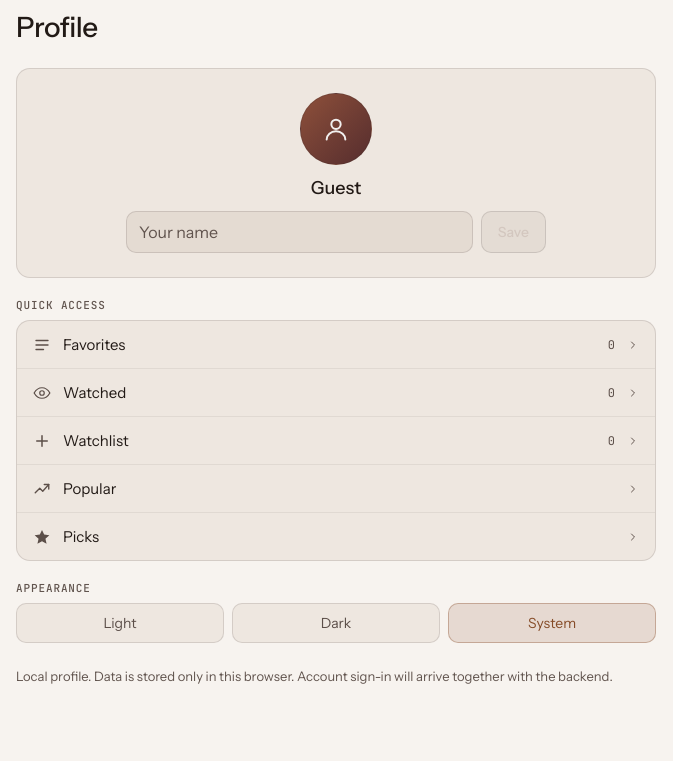
it: Profile › недоступное хранилище: Save показывает сообщение об ошибке, черновик сохраняется, правка убирает сообщение
Type "Oleg" into the field named "Display name" at (299, 232), box [126,211,473,253]
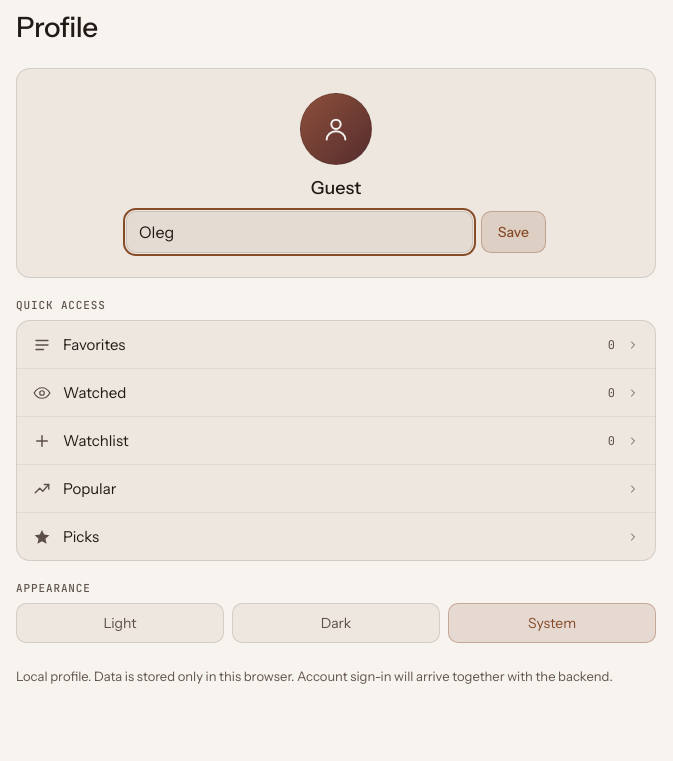
Click the button "Save" at (513, 232), box [481,211,546,253]
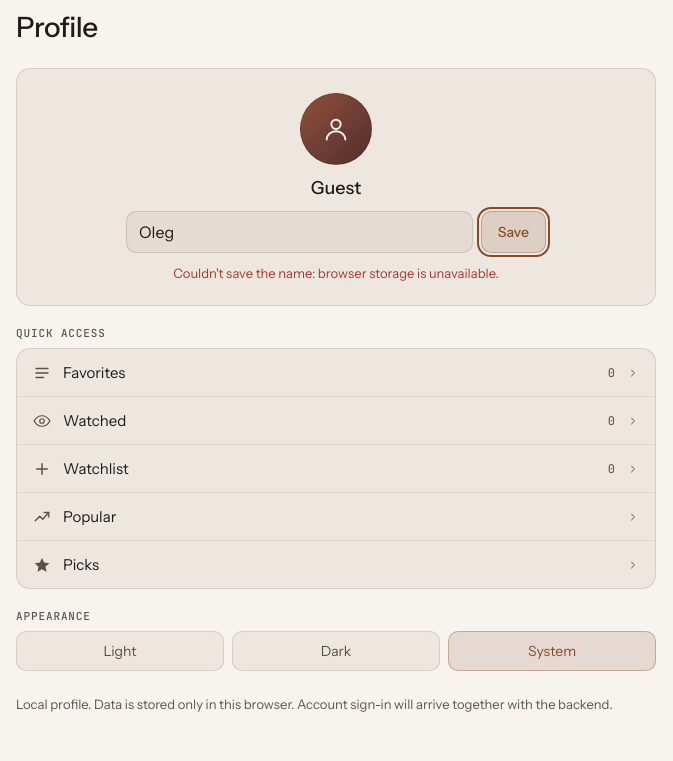
Check: the text "Guest" is shown, box [311,177,361,199]
Check: the button "Save" is enabled, box [481,211,546,253]
Type "2" into the field named "Display name" at (299, 232), box [126,211,473,253]
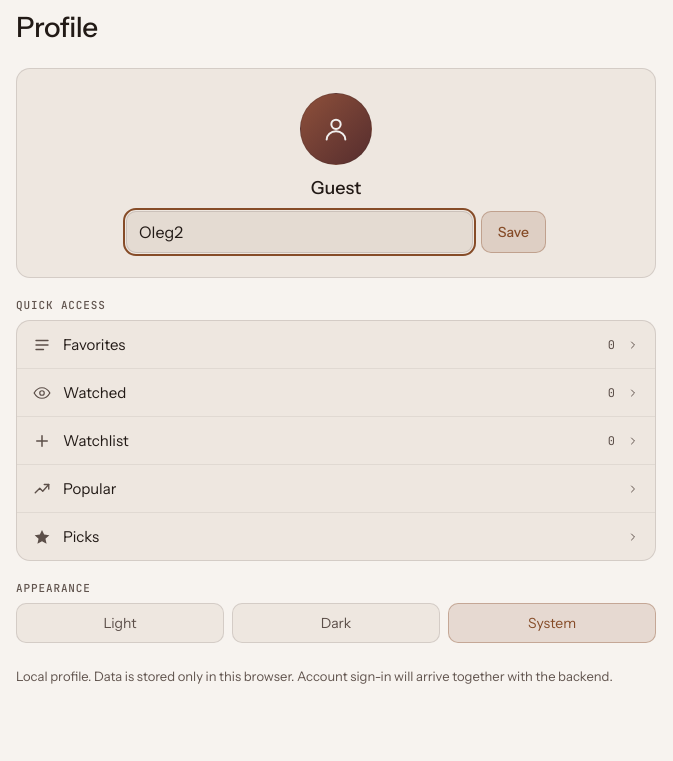
Check: the message "Couldn't save the name: browser storage is unavailable." is gone
Click the button "Save" at (513, 232), box [481,211,546,253]
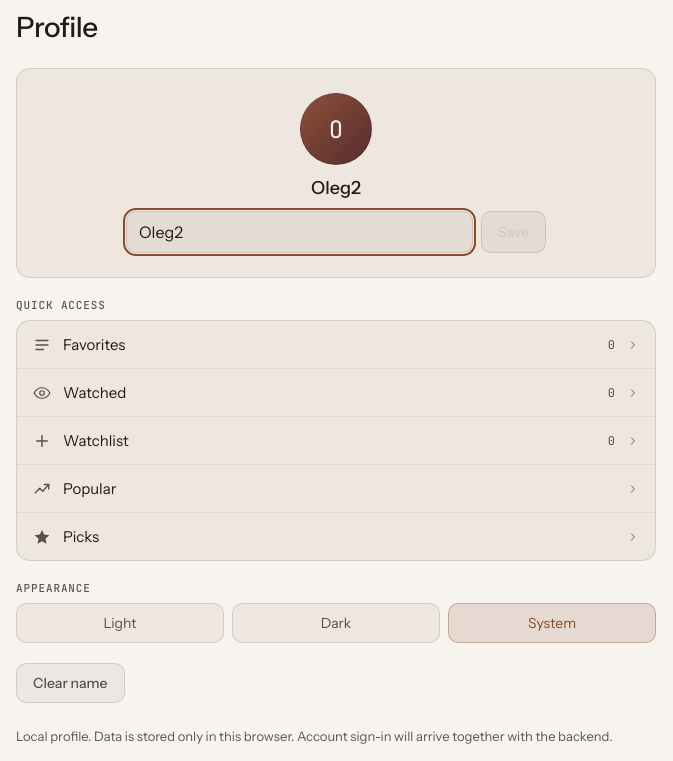
Check: the message "Couldn't save the name: browser storage is unavailable." is not shown
Check: the text "Oleg2" is shown, box [311,177,361,199]
